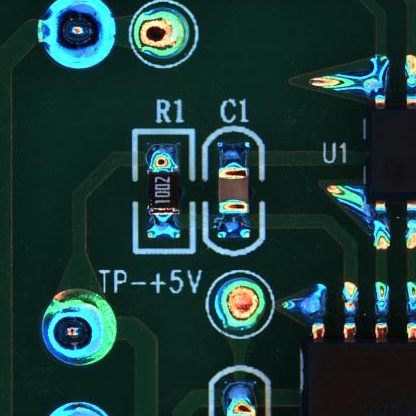spot: (40, 290, 117, 365), (39, 1, 116, 69), (135, 6, 192, 59), (216, 278, 264, 333)
